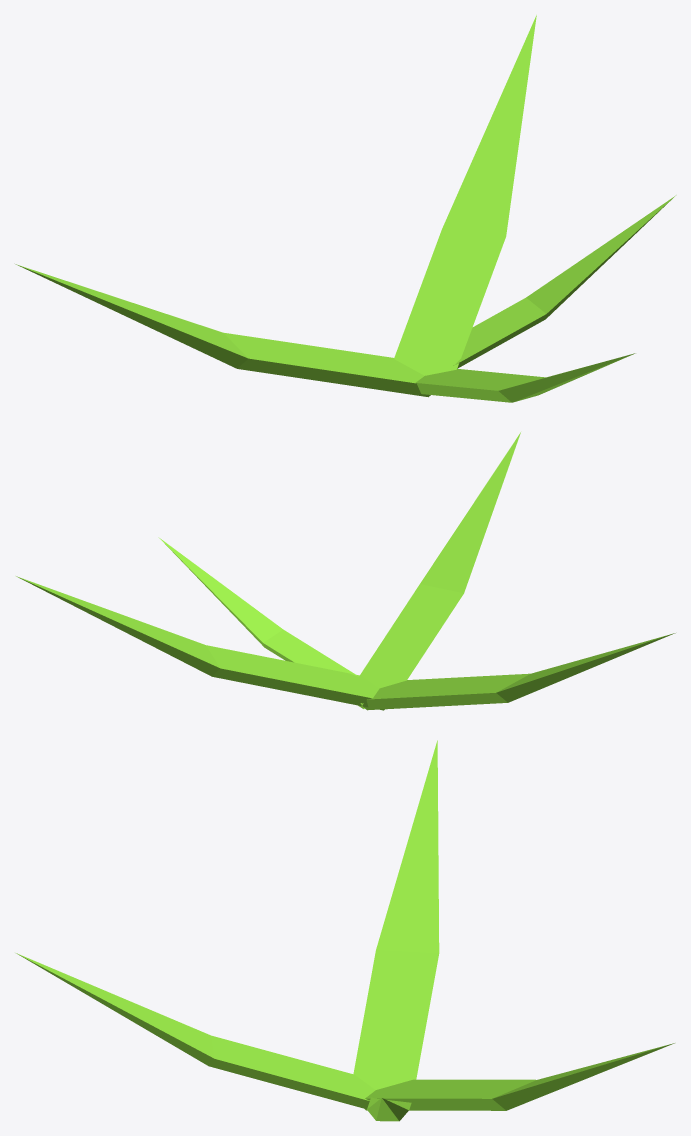
File: Grass_35.fbx
The picture shows the model from 3 angles, top to bottom: view 1: azimuth 30°, elevation 25°; view 2: azimuth 150°, elevation 25°; view 3: azimuth 270°, elevation 25°; orthographic projection. The views are drawn at different scales.
Visible parts, largest first — view 1: Grass_35; view 2: Grass_35; view 3: Grass_35.
Boxes of the visible parts, bbox=[...] form: Grass_35: bbox=[15, 15, 675, 402]; Grass_35: bbox=[16, 432, 675, 710]; Grass_35: bbox=[16, 740, 674, 1121].
Size of the model in its own units: 99.37 by 29 by 91.9.
